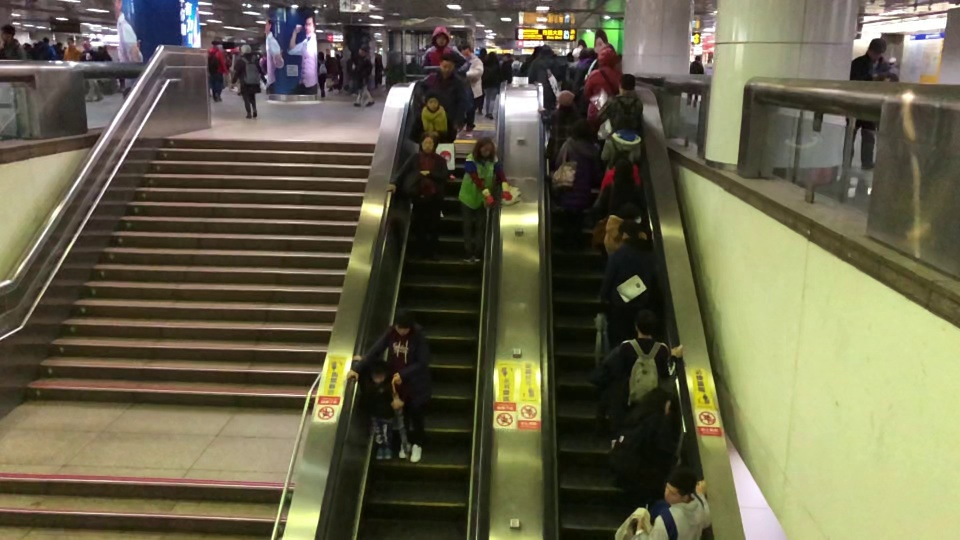person_head: (662, 465, 697, 504), (647, 387, 672, 414), (633, 308, 657, 336), (391, 306, 413, 336), (616, 201, 642, 224), (571, 119, 595, 141), (613, 159, 634, 180), (618, 219, 639, 240), (431, 25, 451, 46), (419, 131, 440, 151), (866, 37, 886, 58), (371, 358, 388, 382), (597, 47, 617, 67), (438, 53, 456, 75), (614, 114, 635, 132), (556, 89, 575, 108), (618, 73, 636, 93), (423, 90, 440, 110), (478, 137, 495, 157), (1, 24, 15, 40), (457, 43, 473, 56), (579, 47, 595, 59), (539, 44, 552, 57), (358, 44, 371, 56), (572, 47, 581, 61), (487, 51, 497, 63), (240, 44, 252, 53), (887, 56, 897, 65), (66, 37, 75, 46), (82, 40, 91, 49), (503, 52, 511, 61), (211, 40, 220, 46), (480, 47, 486, 56), (42, 36, 49, 43), (694, 55, 701, 62), (318, 51, 324, 58), (706, 58, 712, 63), (515, 56, 520, 60)
person_vbox: (346, 306, 432, 463), (607, 387, 683, 500), (386, 130, 450, 262), (457, 137, 512, 264), (417, 53, 468, 181), (618, 308, 682, 406), (554, 118, 600, 253), (599, 219, 661, 319), (841, 36, 886, 170), (635, 464, 713, 540), (408, 90, 454, 218), (352, 355, 394, 460), (597, 72, 644, 139), (538, 89, 582, 160), (583, 47, 623, 123), (456, 43, 485, 140), (230, 43, 267, 119), (419, 25, 472, 76), (598, 159, 646, 215), (603, 200, 648, 254), (527, 44, 563, 110), (600, 114, 642, 170), (351, 44, 375, 108), (81, 40, 104, 102), (206, 39, 228, 101), (572, 47, 596, 90), (0, 23, 27, 60), (485, 50, 499, 118), (686, 55, 704, 107), (37, 36, 57, 60), (317, 50, 327, 98), (64, 37, 80, 61), (501, 51, 512, 80), (886, 55, 900, 76), (511, 55, 522, 75), (703, 57, 713, 76)
